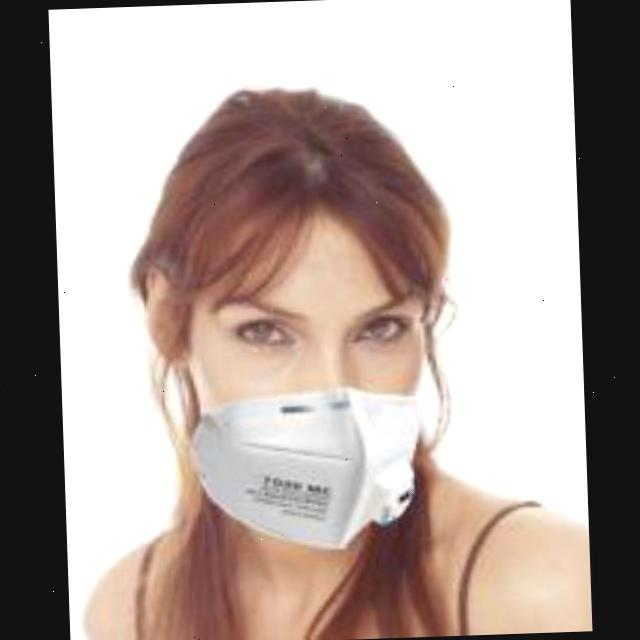suspicion: (166, 173, 452, 556)
